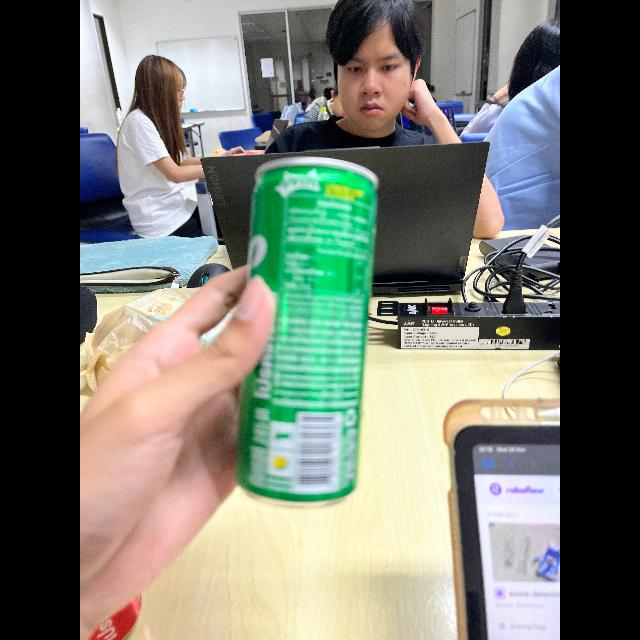can: (224, 152, 386, 506)
